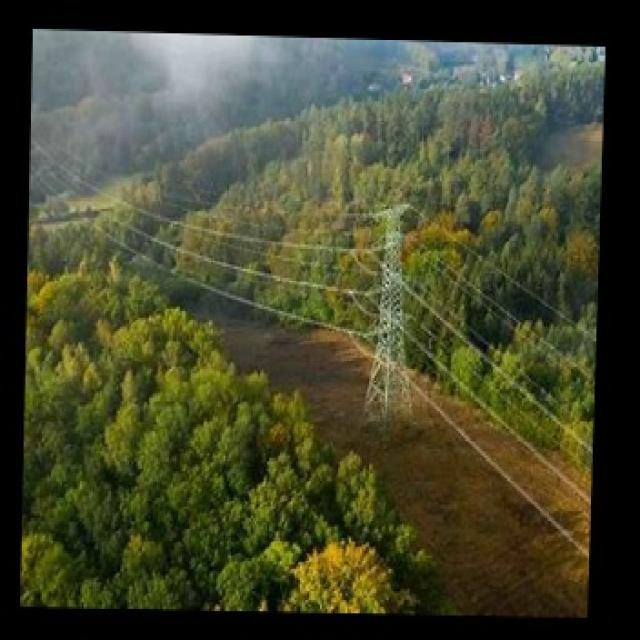utility poles: (344, 179, 434, 444)
